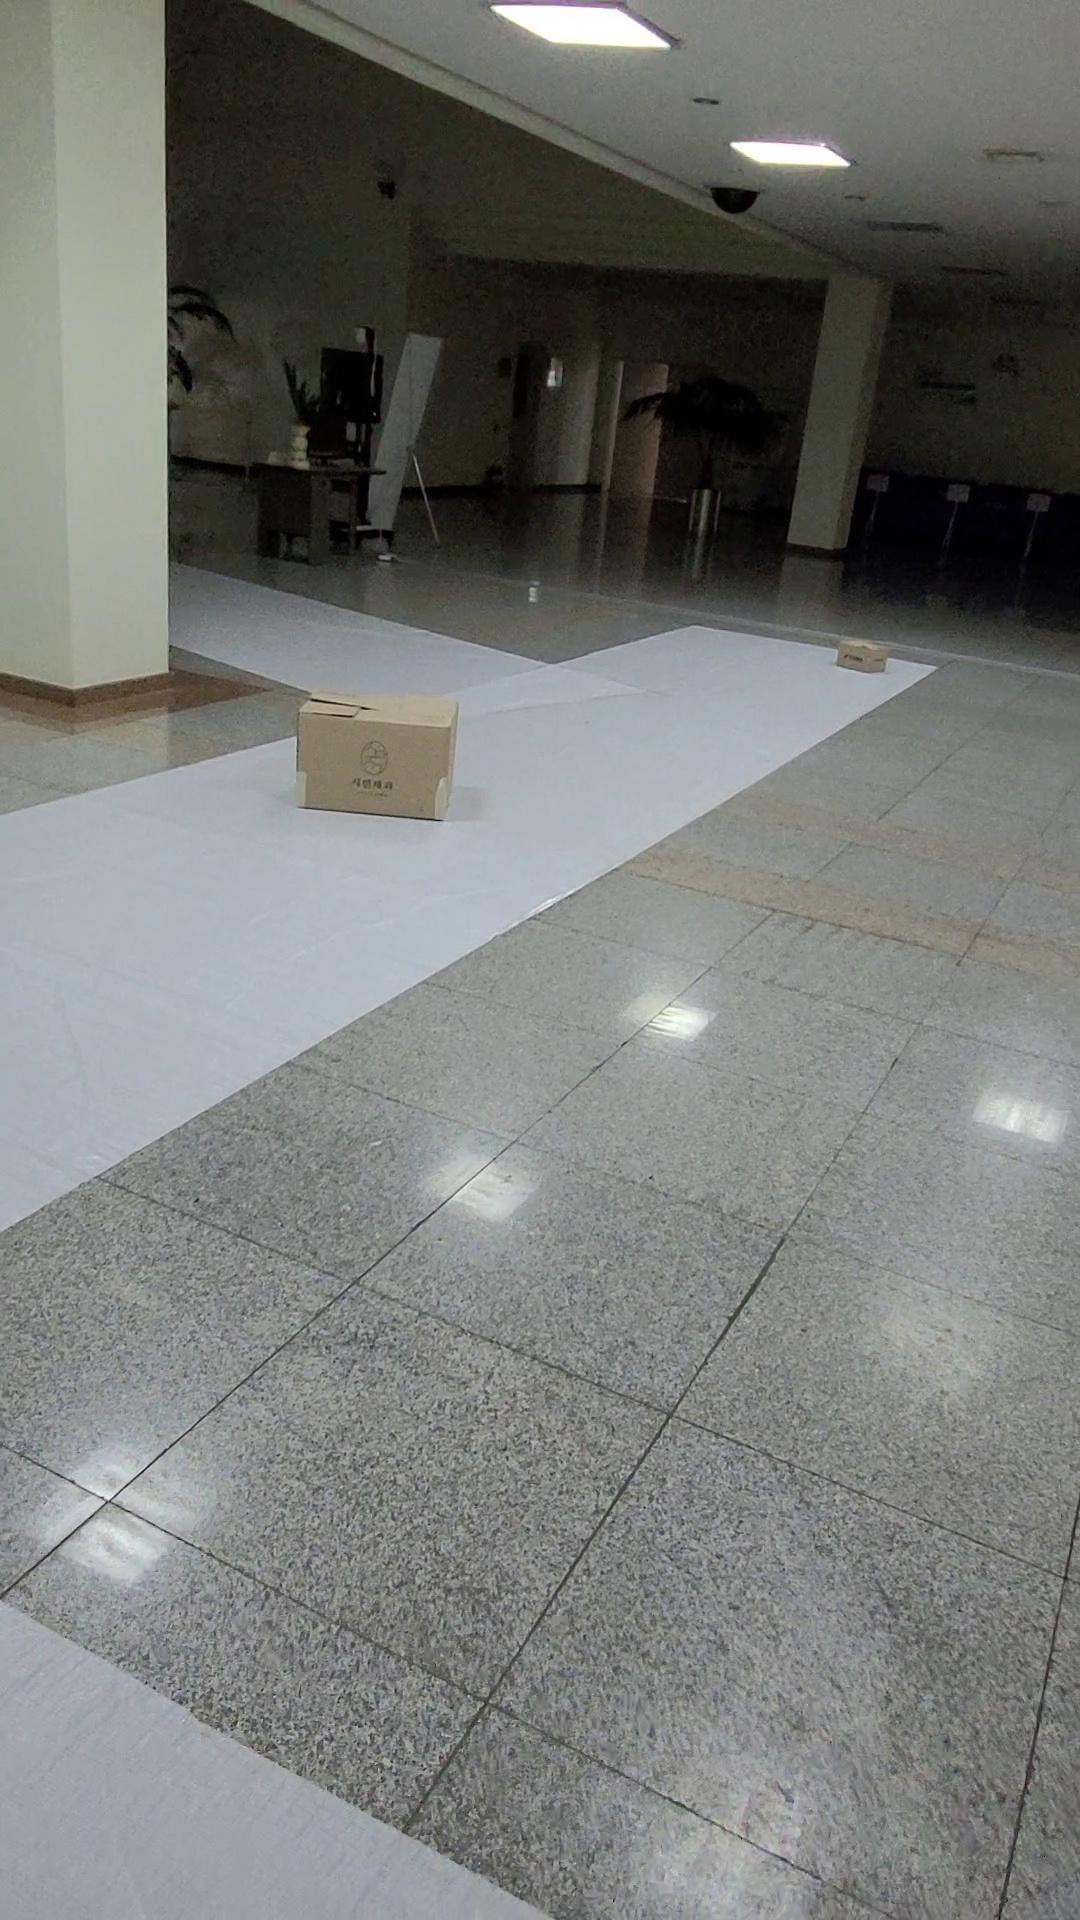Box: (273, 678, 477, 828), (825, 625, 897, 684)
